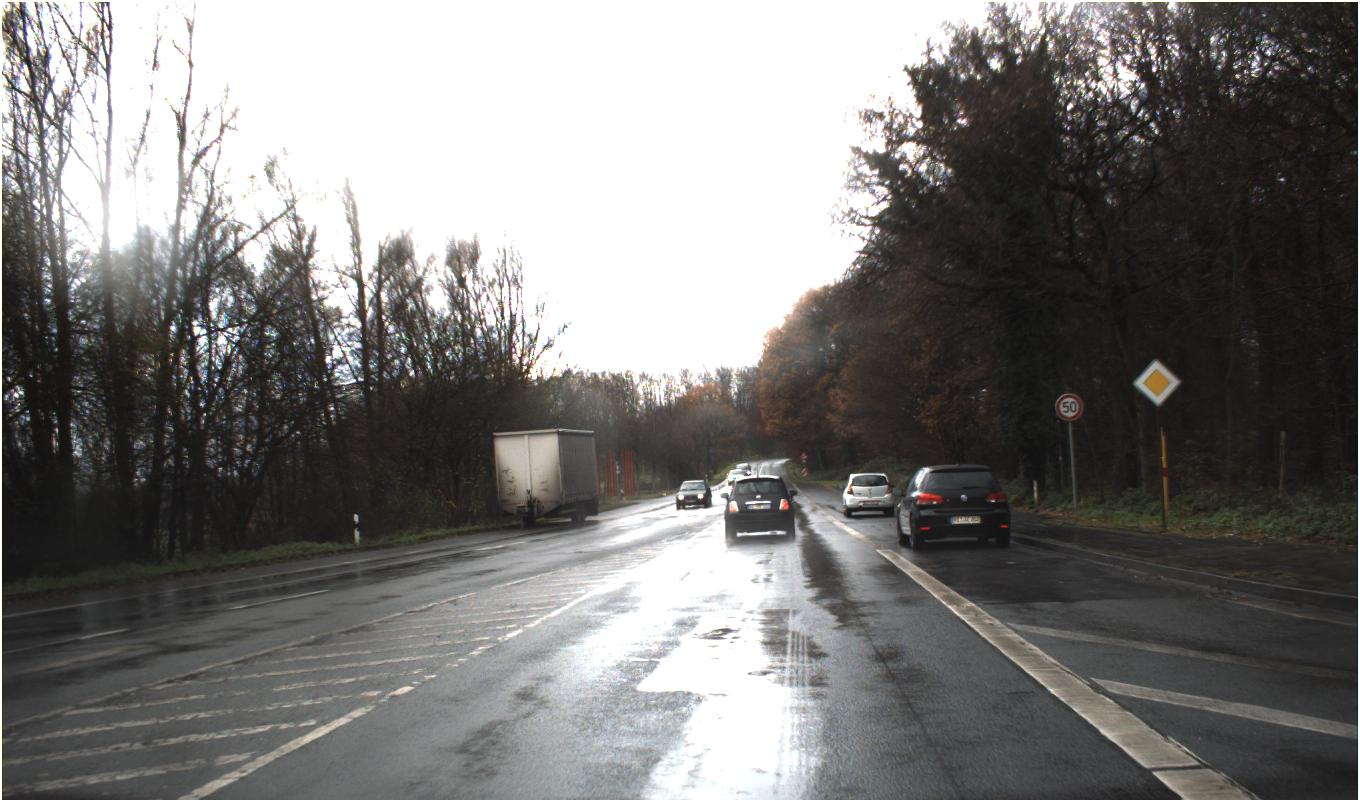prohibitory: (1054, 392, 1083, 422)
sign: (1131, 357, 1182, 408)
